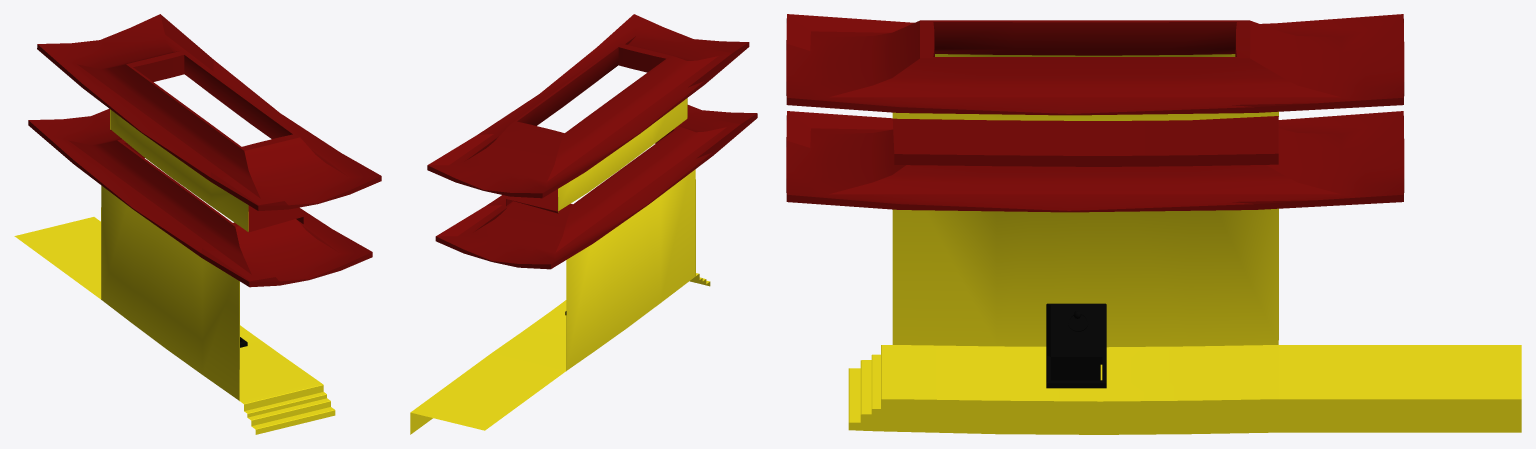
File: temple.FBX
3 renders of one model, left to right at view 1: azimuth 30°, elevation 25°; view 2: azimuth 150°, elevation 25°; view 3: azimuth 270°, elevation 25°, orthographic. The views are drawn at different scales.
Parts seen in each view (by area): view 1: Box304; view 2: Box304; view 3: Box304.
Boxes of the visible parts, x1,y1,x2,y2 form: Box304: [14, 14, 381, 434]; Box304: [410, 14, 757, 434]; Box304: [786, 14, 1521, 434].
Bounding box in the file's own units: 639 × 1225 × 2206.
